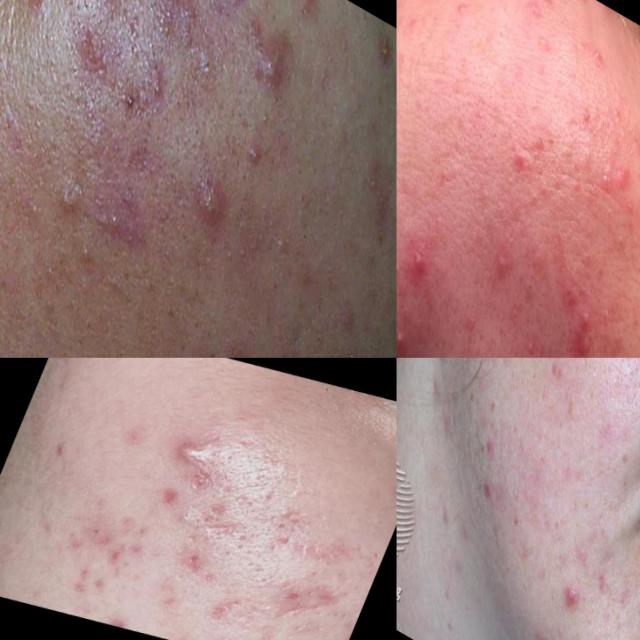8: (162, 433, 233, 480), (400, 233, 440, 303), (550, 564, 584, 640), (568, 308, 606, 358), (488, 244, 519, 304), (610, 158, 640, 202), (518, 270, 543, 313), (555, 288, 582, 326), (518, 176, 542, 218), (630, 578, 640, 640)
9: (578, 34, 614, 90), (289, 0, 334, 40), (372, 28, 396, 92), (240, 135, 263, 187), (439, 0, 478, 30), (269, 222, 292, 266), (396, 322, 412, 358), (397, 250, 402, 294)
blackheads: (184, 167, 232, 256), (259, 23, 299, 112), (199, 0, 261, 54), (29, 434, 80, 478), (64, 566, 113, 608), (203, 592, 253, 628), (301, 579, 350, 612), (172, 546, 216, 582), (262, 527, 307, 558), (270, 581, 302, 622), (204, 497, 239, 530), (148, 481, 186, 509), (102, 542, 136, 572), (86, 205, 94, 212), (79, 234, 81, 240)
dark spot: (258, 266, 292, 320), (292, 210, 320, 260)
